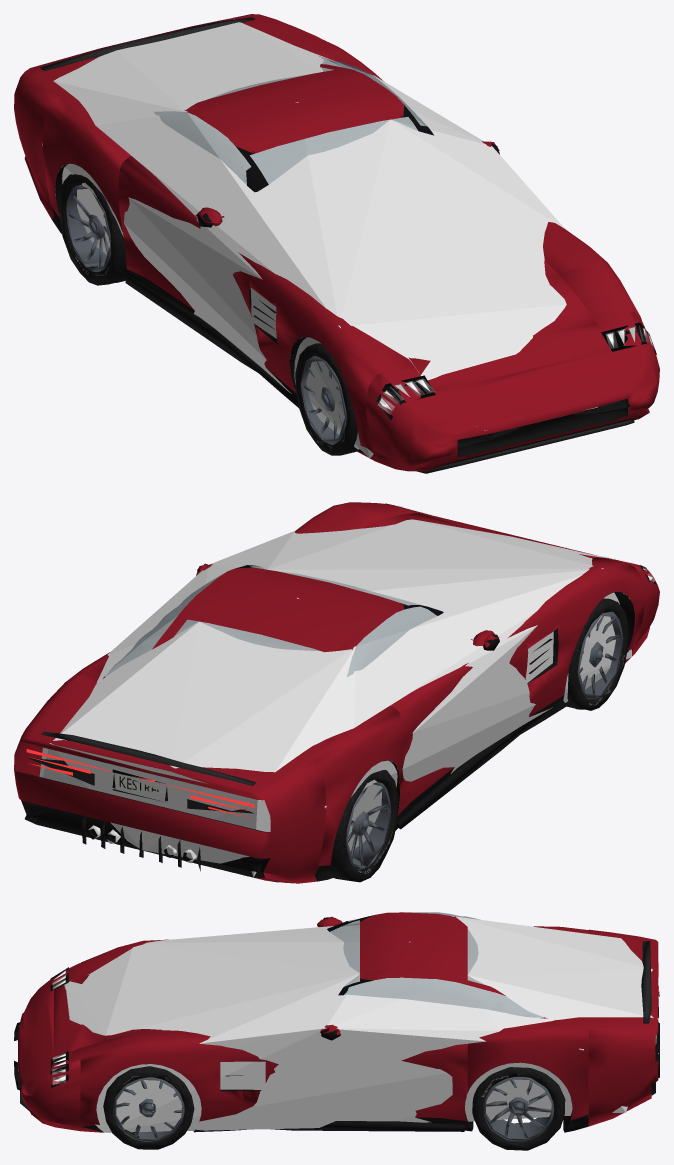
The model's file is kestrel_gtr_lod2.glb.
3 views of the same model, one above another, from view 1: azimuth 30°, elevation 25°; view 2: azimuth 150°, elevation 25°; view 3: azimuth 270°, elevation 25° (orthographic). The views are drawn at different scales.
Parts seen in each view (by area): view 1: col_body, body, glass, trim, wheel_RR, wheel_FR, lights_front, underbody; view 2: col_body, body, wheel_RR, glass, trim, wheel_FR, lights_rear, underbody, plate_rear; view 3: col_body, body, wheel_RL, glass, wheel_FL, trim, lights_front.
Part boxes in pixels (<box>): col_body: <box>42,18,597,458</box>; body: <box>14,14,659,471</box>; glass: <box>154,57,426,184</box>; trim: <box>40,17,634,473</box>; wheel_RR: <box>59,174,127,285</box>; wheel_FR: <box>295,343,357,455</box>; lights_front: <box>376,322,656,419</box>; underbody: <box>55,163,637,471</box>; col_body: <box>39,519,631,877</box>; body: <box>14,502,659,883</box>; wheel_RR: <box>330,770,398,882</box>; glass: <box>105,565,436,676</box>; trim: <box>41,563,552,871</box>; wheel_FR: <box>565,598,628,710</box>; lights_rear: <box>26,749,254,817</box>; underbody: <box>37,592,634,882</box>; plate_rear: <box>112,769,167,801</box>; col_body: <box>18,916,658,1132</box>; body: <box>14,912,658,1132</box>; wheel_RL: <box>472,1067,565,1150</box>; glass: <box>330,912,543,1017</box>; wheel_FL: <box>103,1066,194,1149</box>; trim: <box>20,916,659,1131</box>; lights_front: <box>50,967,68,1088</box>.
Bounding box in the file's own units: 2.01 × 1.28 × 4.8.
12 materials, 3 textured.
